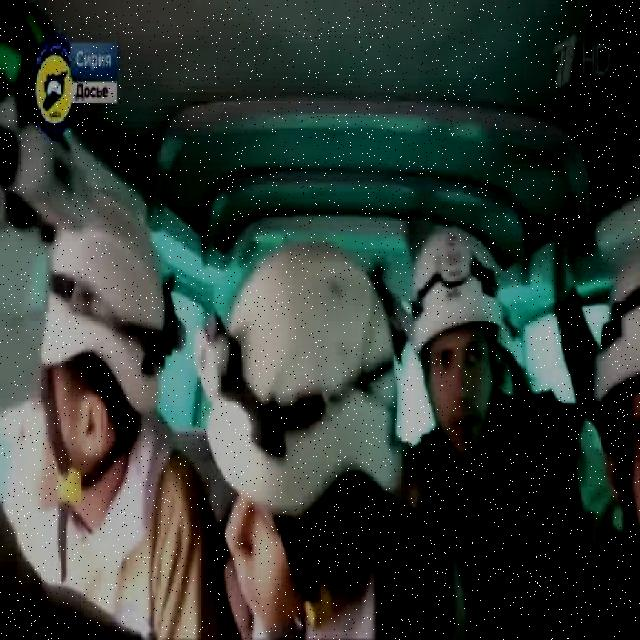Helmet: (194, 234, 411, 520), (40, 190, 174, 415), (409, 219, 502, 364), (584, 246, 638, 414)
